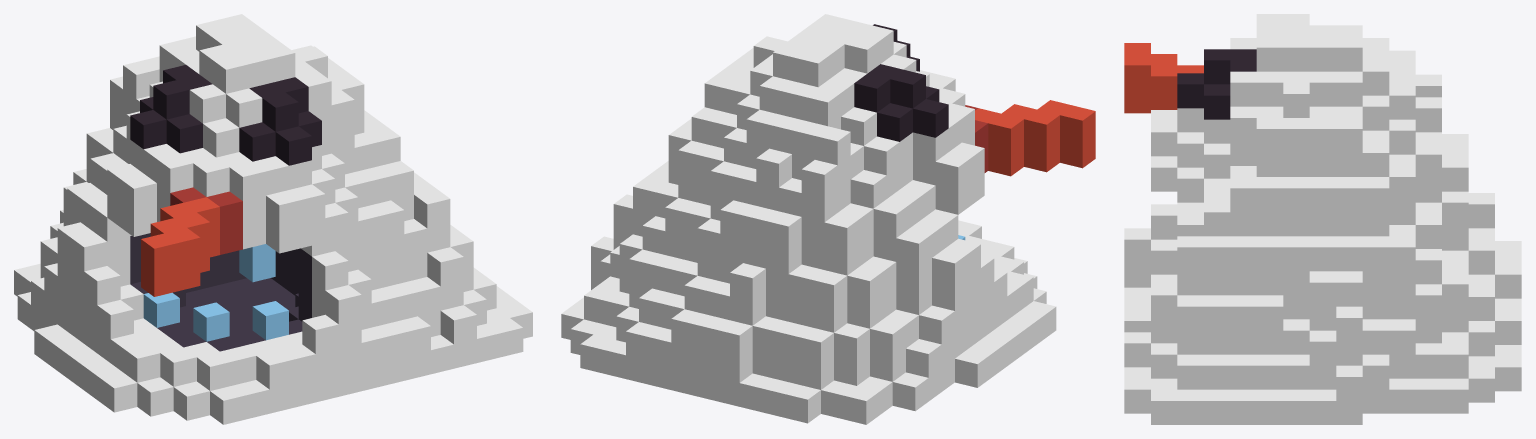
Rendered from Smol-EVIL-1.obj.
The picture shows the model from 3 angles, left to right: view 1: azimuth 30°, elevation 25°; view 2: azimuth 150°, elevation 25°; view 3: azimuth 270°, elevation 25°; orthographic projection.
Size of the model in its own units: 1.7 by 1.2 by 1.5.
Materials: 1 (1 with a texture image).
